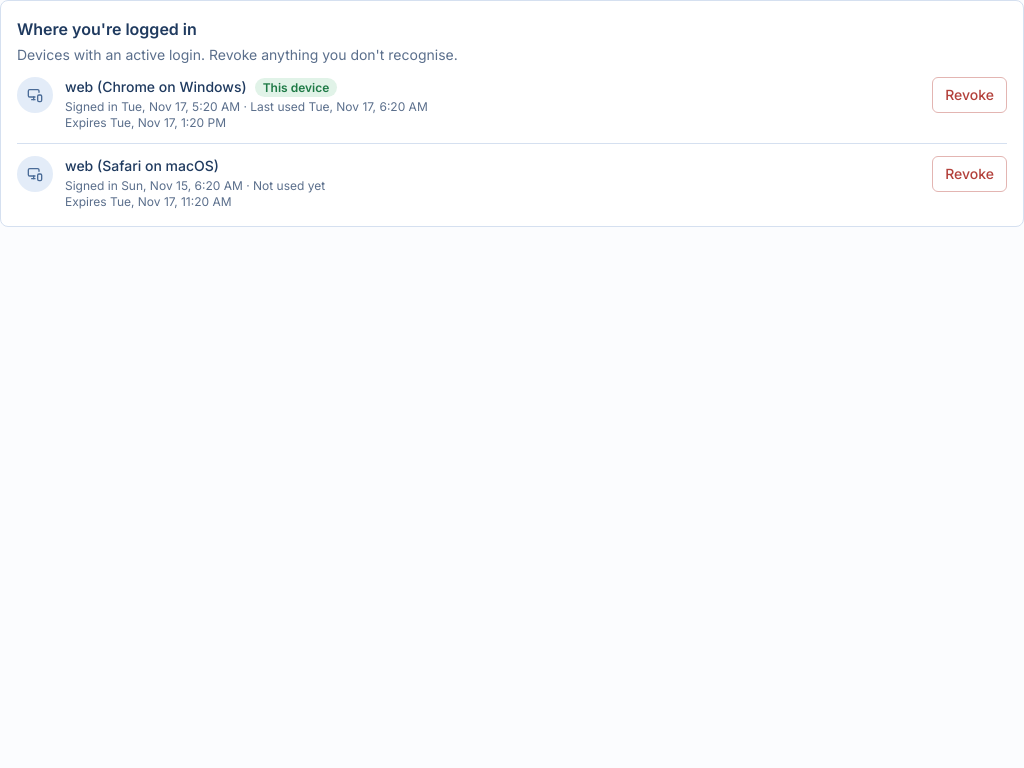
Test: Profile sessions › marks the current session and revokes another one after confirmation
The width and height of the screenshot is (1024, 768).
Expected: the text "web (Chrome on Windows)" is shown, [65,78,247,95]
Expected: the text "This device" is shown, [255,78,337,97]
Click the button with aria-label "Revoke web (Safari on macOS)". click: (970, 174)
box: [932,156,1007,192]
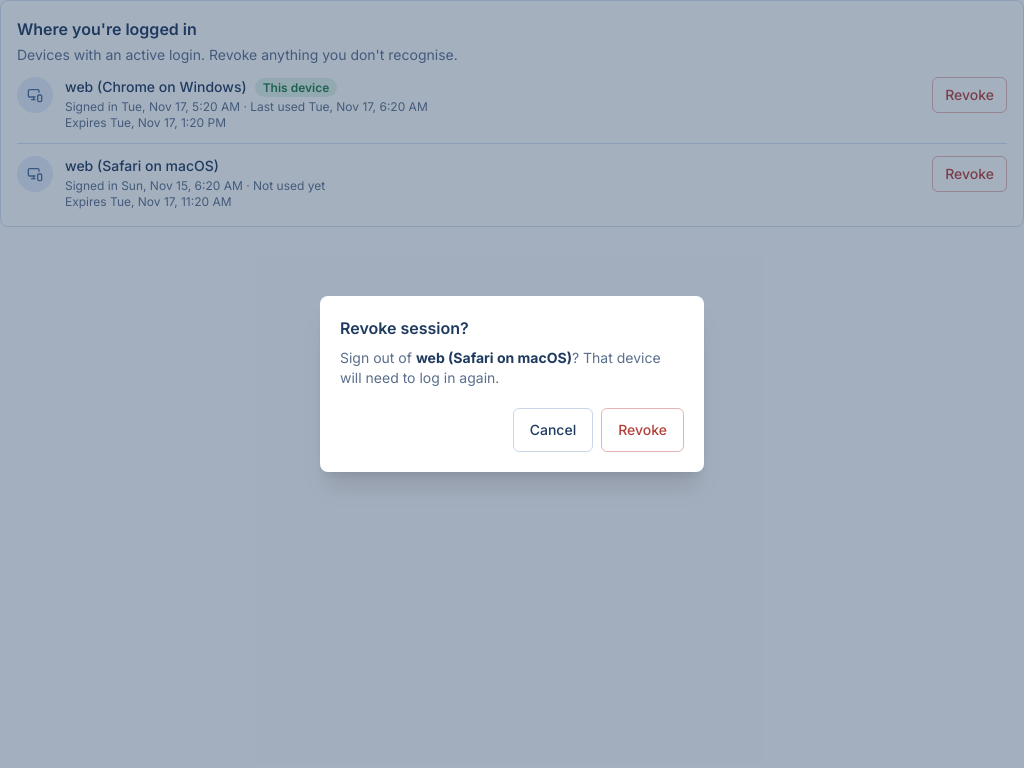
Expected: the text "web (Safari on macOS)" is shown, [416,349,572,366]
Click the button "Revoke". click: (643, 430)
box: [601,408,684,452]
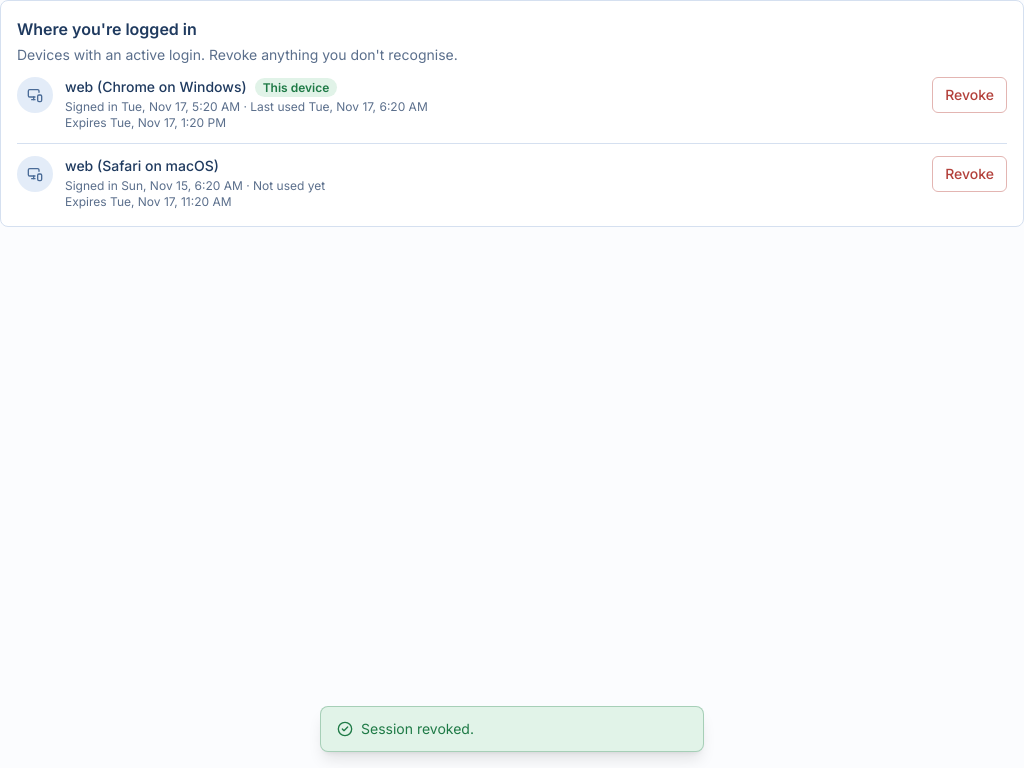
Expected: the text "Session revoked." is shown, [361,719,474,739]
